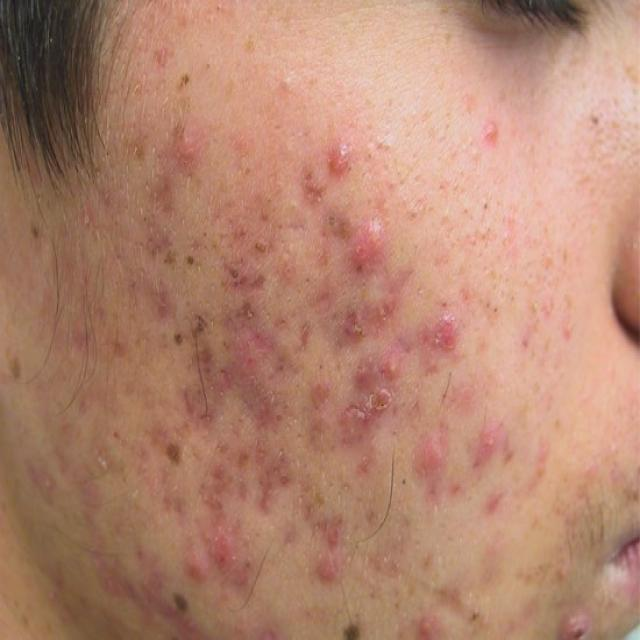blackhead: (11, 359, 20, 383), (255, 240, 266, 256), (29, 222, 38, 239), (174, 331, 183, 346), (181, 72, 189, 88), (471, 608, 480, 620), (196, 320, 204, 332), (244, 560, 253, 570), (348, 629, 356, 640), (187, 254, 194, 266), (170, 448, 177, 460), (592, 115, 599, 126), (328, 215, 334, 227), (232, 270, 238, 280), (177, 600, 183, 610), (276, 414, 283, 422), (483, 203, 488, 210), (224, 340, 228, 348), (402, 478, 406, 486), (494, 307, 498, 313), (486, 302, 490, 308), (442, 301, 446, 307), (368, 153, 372, 159), (319, 365, 323, 370), (465, 208, 467, 214)
nodule: (418, 440, 444, 471), (363, 221, 387, 254), (331, 143, 351, 176), (176, 135, 197, 160)
